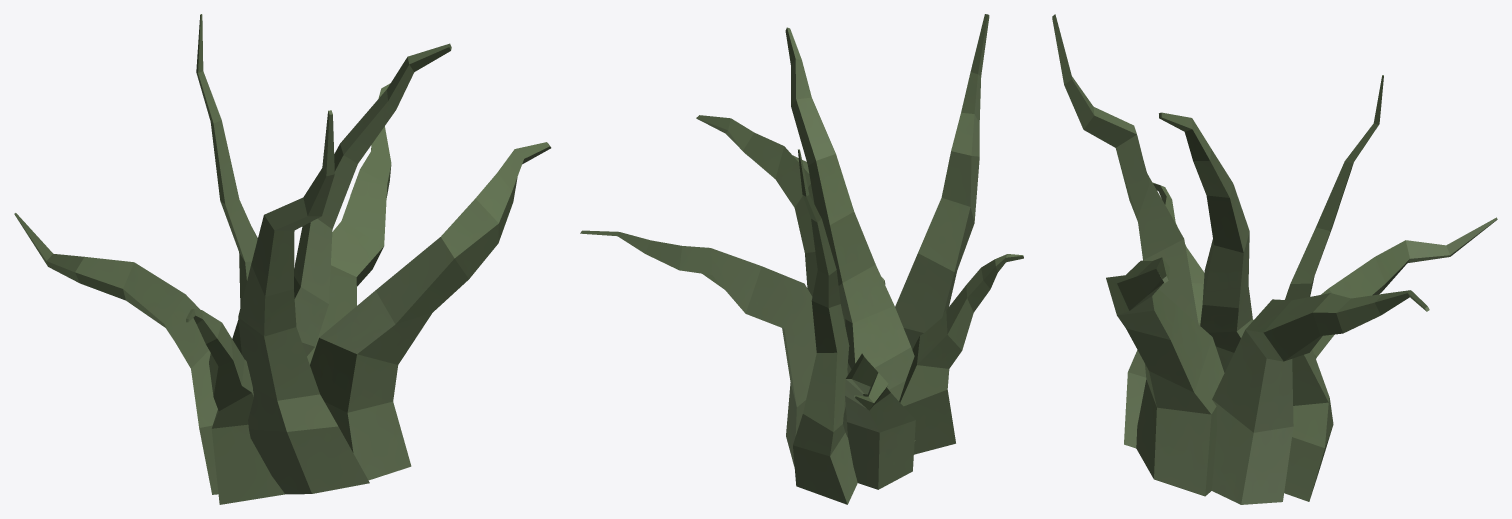
Rendered from grass_green_4.glb.
3 views of the same model, side by side, from view 1: azimuth 30°, elevation 25°; view 2: azimuth 150°, elevation 25°; view 3: azimuth 270°, elevation 25° (orthographic). The views are drawn at different scales.
Parts seen in each view (by area): view 1: grass_green_4; view 2: grass_green_4; view 3: grass_green_4.
Part boxes in pixels (bbox=[...]): grass_green_4: bbox=[14, 14, 551, 504]; grass_green_4: bbox=[580, 14, 1023, 504]; grass_green_4: bbox=[1052, 14, 1497, 504].
Size of the model in its own units: 0.4941 by 0.6024 by 0.541.
1 material, 1 textured.
